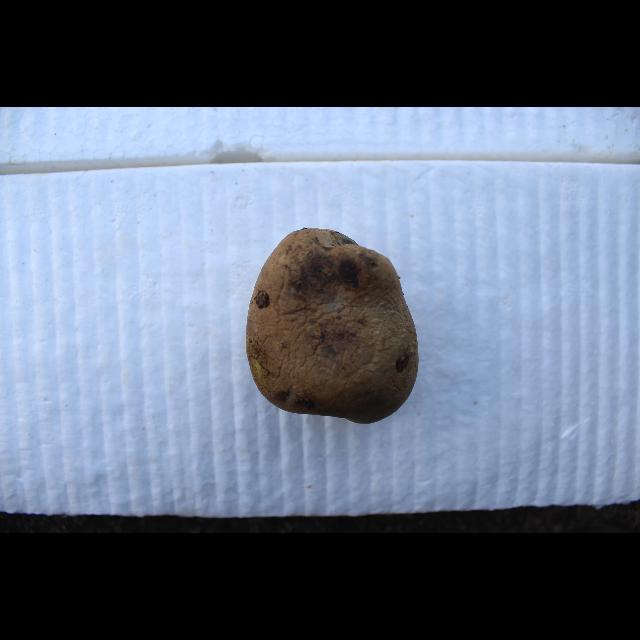Diseased-fungal potato: (246, 223, 422, 424)
